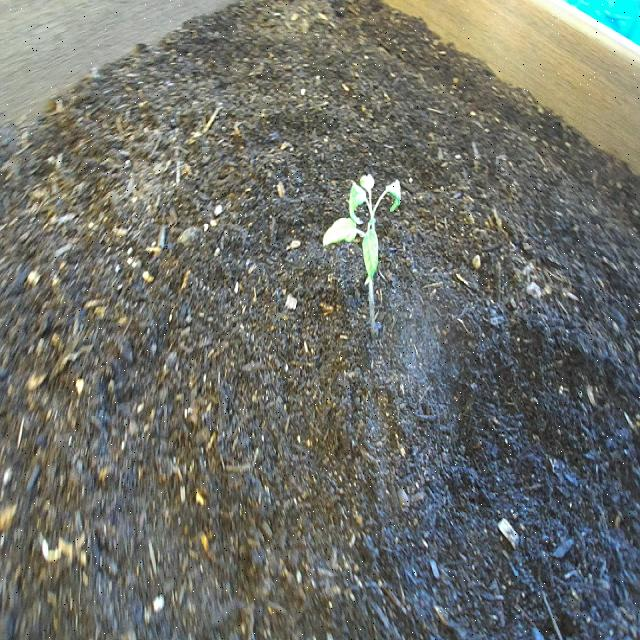Healthy: (322, 170, 406, 353)
